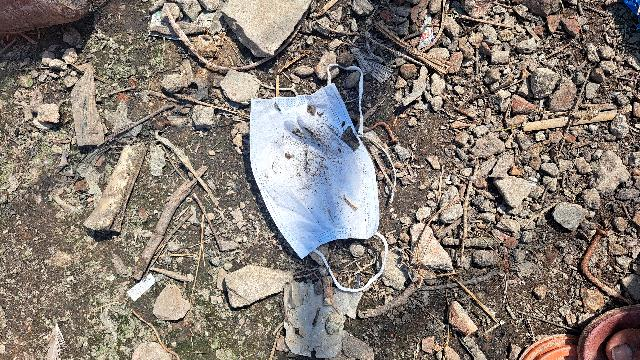mask: (248, 98, 391, 254)
